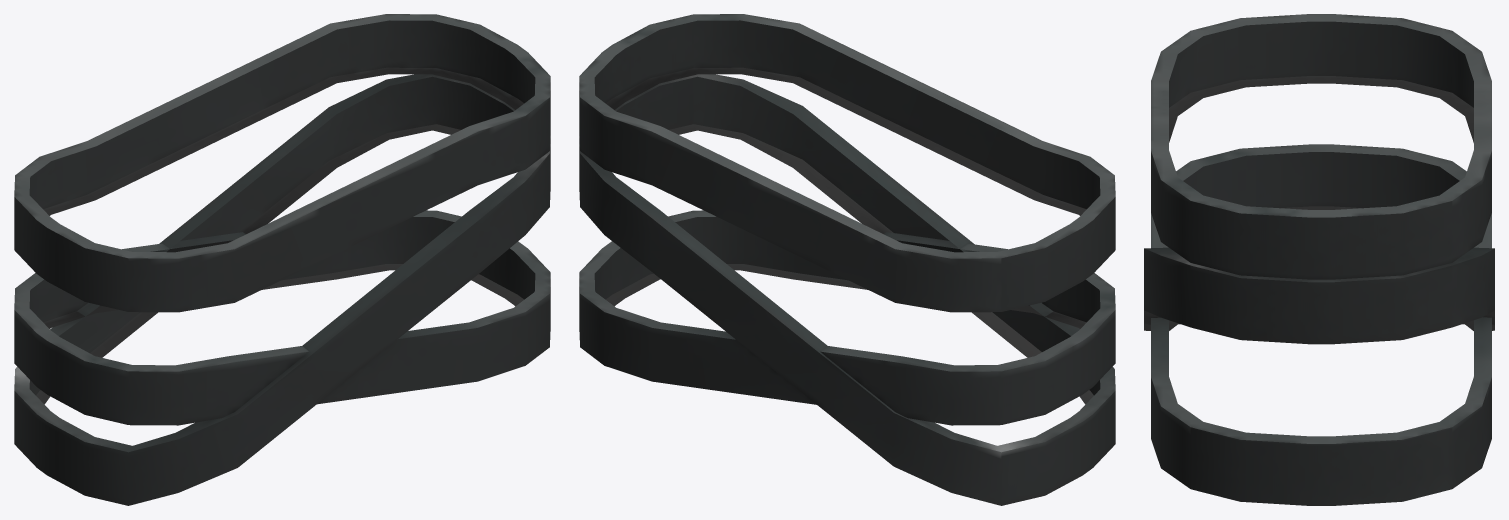
Rendered from battery_wrap.fbx.
3 renders of one model, left to right at view 1: azimuth 30°, elevation 25°; view 2: azimuth 150°, elevation 25°; view 3: azimuth 270°, elevation 25°, orthographic. The views are drawn at different scales.
Parts seen in each view (by area): view 1: battery_wrap; view 2: battery_wrap; view 3: battery_wrap.
Part boxes in pixels (left/top/right/bottom): battery_wrap: left=14, top=14, right=550, bottom=505; battery_wrap: left=579, top=14, right=1115, bottom=505; battery_wrap: left=1144, top=14, right=1494, bottom=505.
Bounding box in the file's own units: 0.2326 × 0.1414 × 0.1274.
